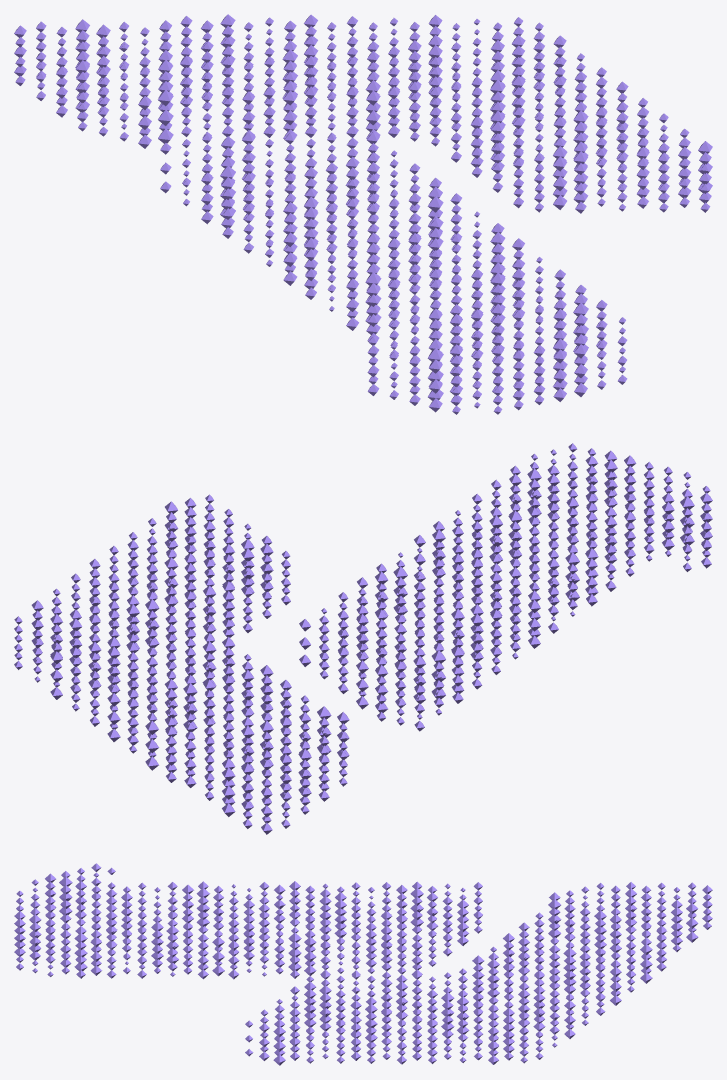
File: NarventLayered.glb
3 views of the same model, one above another, from view 1: azimuth 30°, elevation 25°; view 2: azimuth 150°, elevation 25°; view 3: azimuth 270°, elevation 25° (orthographic). The views are drawn at different scales.
Bounding box in the file's own units: 9.55 × 1.08 × 16.72.
